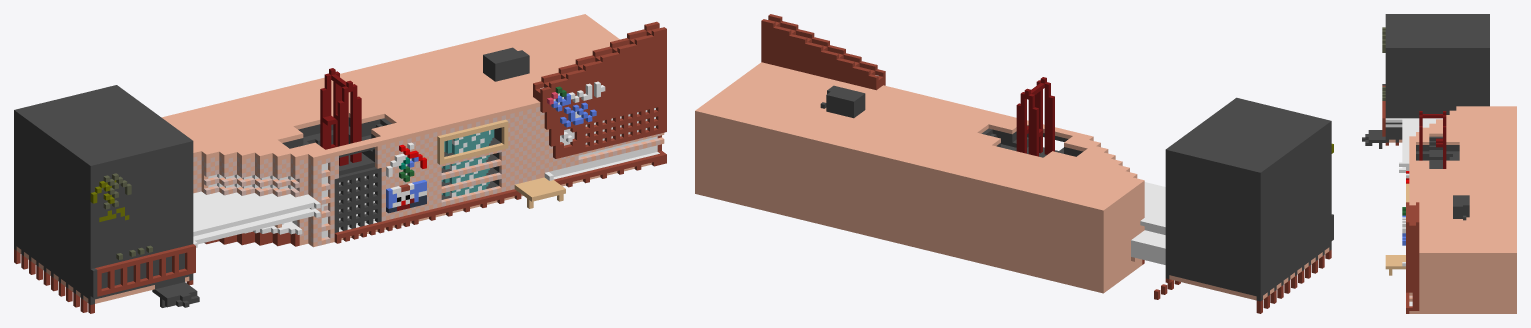
File: amuran-1.glb
3 renders of one model, left to right at view 1: azimuth 30°, elevation 25°; view 2: azimuth 150°, elevation 25°; view 3: azimuth 270°, elevation 25°, orthographic. The views are drawn at different scales.
Visible parts, largest first — view 1: Untitled; view 2: Untitled; view 3: Untitled.
Boxes of the visible parts, bbox=[...] form: Untitled: bbox=[14, 14, 666, 313]; Untitled: bbox=[695, 14, 1333, 313]; Untitled: bbox=[1362, 14, 1516, 313].
Size of the model in its own units: 2.76 by 0.68 by 0.92.
Materials: 1 (1 with a texture image).
